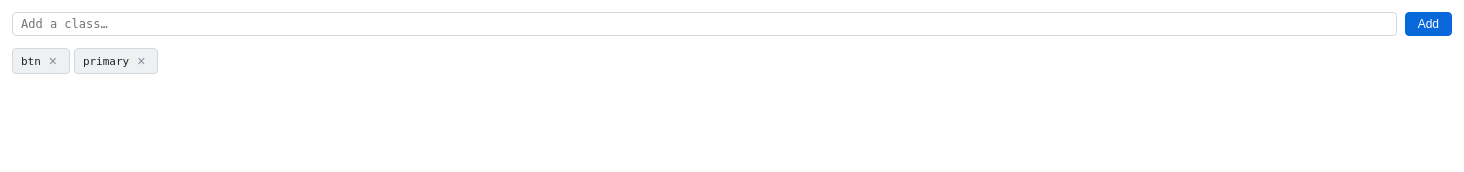
it: ClassEditor › creates a ClassReplaceCommand when a chip is edited
This screenshot has width=1464, height=172.
Click the button "btn" at {"x": 31, "y": 61}, box [21,54,41,68]
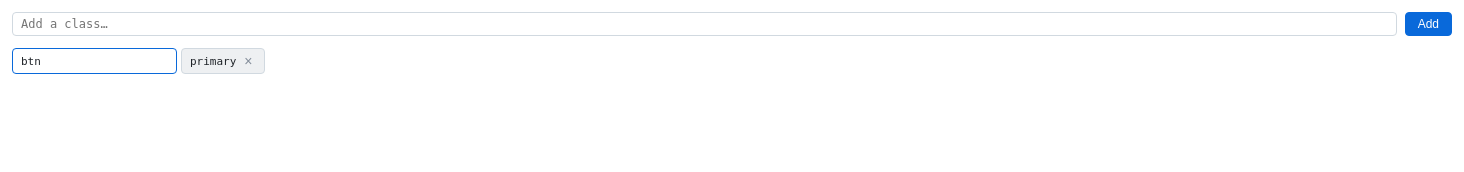
Expected: the field with class "class-editor__chip-input" is shown
Replace the text in the field with class "class-editor__chip-input" with "button" at {"x": 94, "y": 61}, box [12,48,177,74]
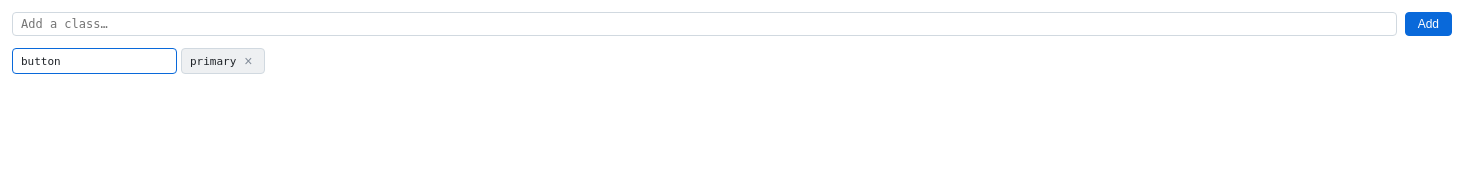
Leave the field with class "class-editor__chip-input", box [12,48,177,74]
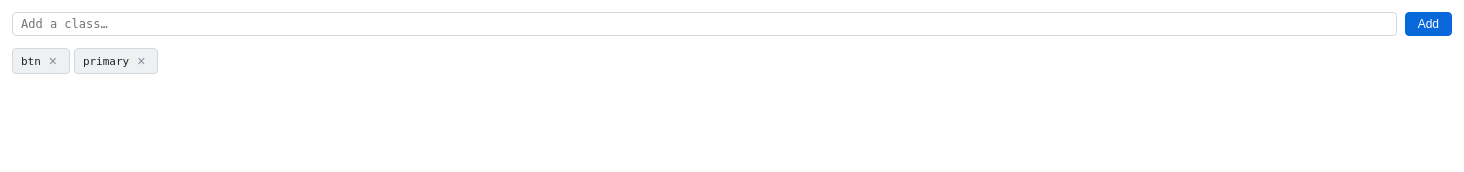
Expected: the button "btn" is shown, [21,54,41,68]
